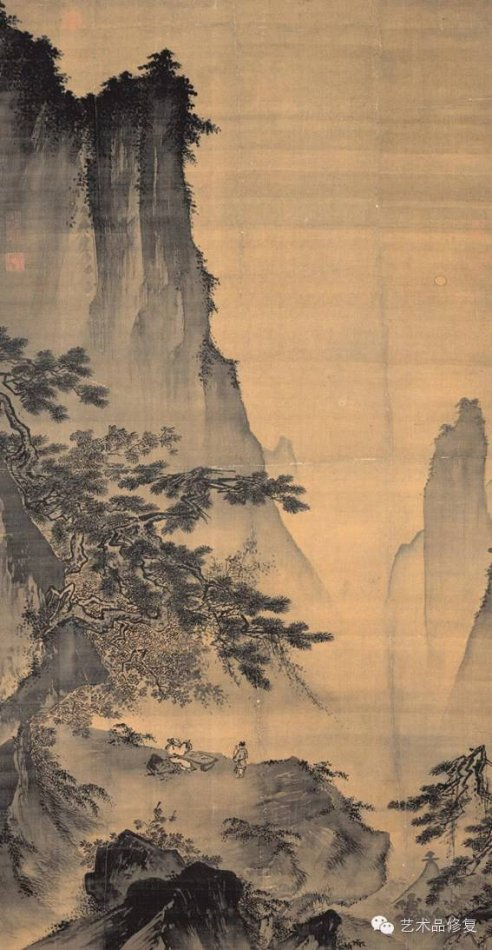man: (152, 735, 220, 772), (233, 737, 248, 781)
mountain: (1, 6, 359, 609), (387, 401, 492, 729)
pine: (1, 336, 343, 708), (410, 747, 492, 843)
